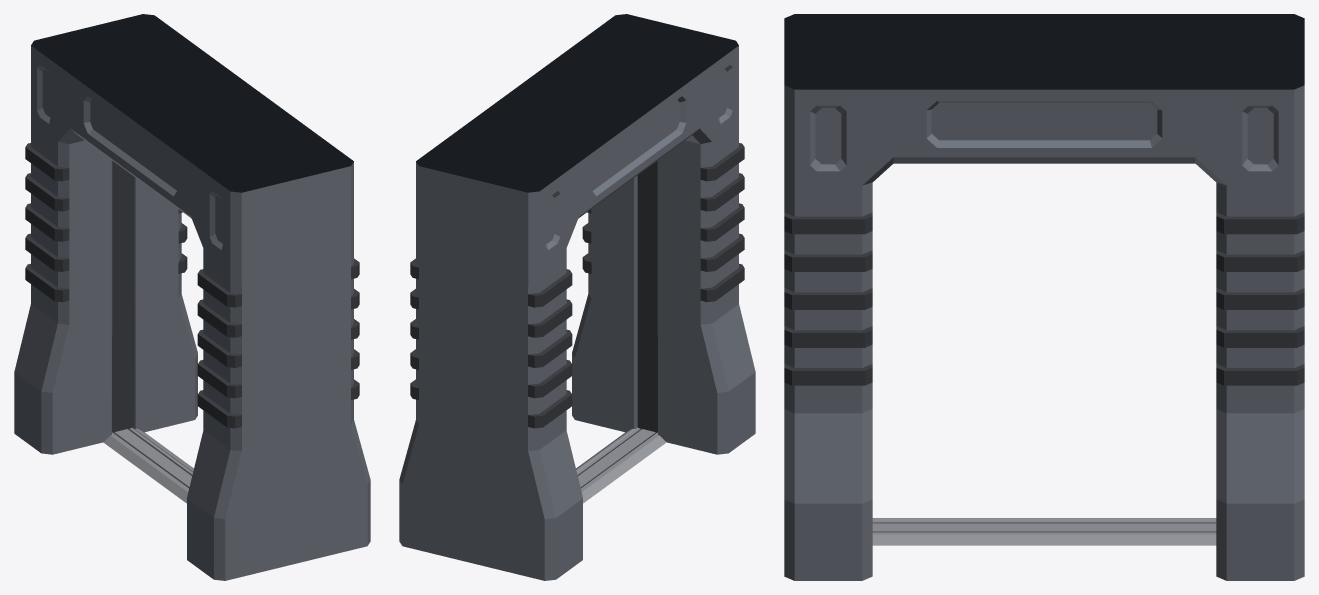
File: sm_Door_Frame_B_01.fbx
3 renders of one model, left to right at view 1: azimuth 30°, elevation 25°; view 2: azimuth 150°, elevation 25°; view 3: azimuth 270°, elevation 25°, orthographic. The views are drawn at different scales.
Visible parts, largest first — view 1: Door_Frame_B_01; view 2: Door_Frame_B_01; view 3: Door_Frame_B_01.
Part boxes in pixels (x1=…): Door_Frame_B_01: x1=14, y1=14, x2=370, y2=580; Door_Frame_B_01: x1=399, y1=14, x2=755, y2=580; Door_Frame_B_01: x1=784, y1=14, x2=1304, y2=580.
Bounding box in the file's own units: 200 × 204 × 87.12.
